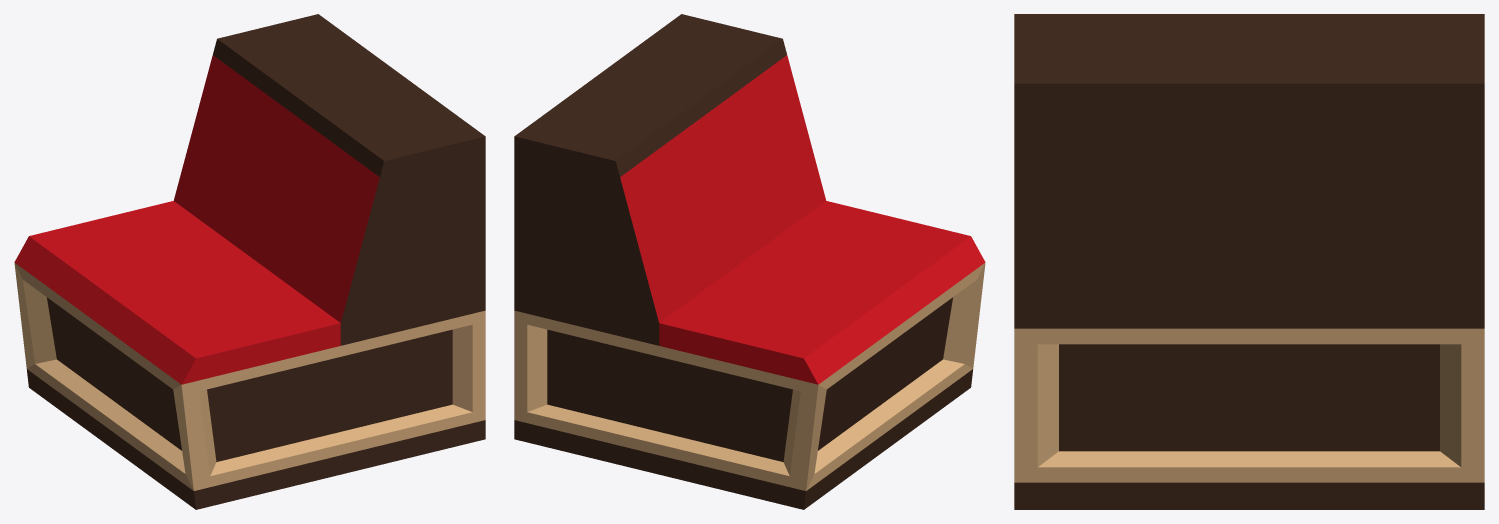
The model's file is Booth Straight.fbx.
3 views of the same model, side by side, from view 1: azimuth 30°, elevation 25°; view 2: azimuth 150°, elevation 25°; view 3: azimuth 270°, elevation 25° (orthographic). The views are drawn at different scales.
Parts seen in each view (by area): view 1: Booth Straight; view 2: Booth Straight; view 3: Booth Straight.
Boxes of the visible parts, left/top/right/bottom form: Booth Straight: left=14, top=14, right=485, bottom=509; Booth Straight: left=514, top=14, right=985, bottom=509; Booth Straight: left=1014, top=14, right=1484, bottom=509.
Bounding box in the file's own units: 2100 × 2000 × 2000.
